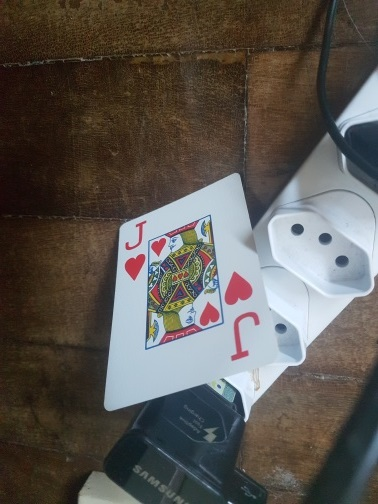jack: (102, 173, 280, 407)
